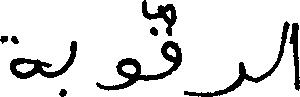X: (187, 57, 244, 96), (0, 31, 40, 83), (99, 53, 137, 95), (163, 0, 180, 82), (278, 16, 288, 69), (293, 18, 299, 95), (68, 36, 74, 72)
